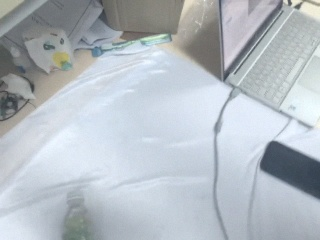bottle: (61, 187, 100, 239)
box: (101, 1, 189, 36)
phone: (258, 139, 320, 210)
